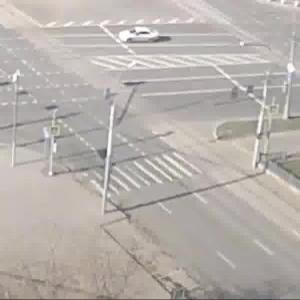car: (116, 25, 164, 47)
